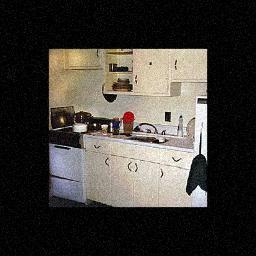Electrodomestico: (52, 131, 88, 202), (192, 96, 206, 206)
Lavaplatos: (123, 120, 171, 150)
